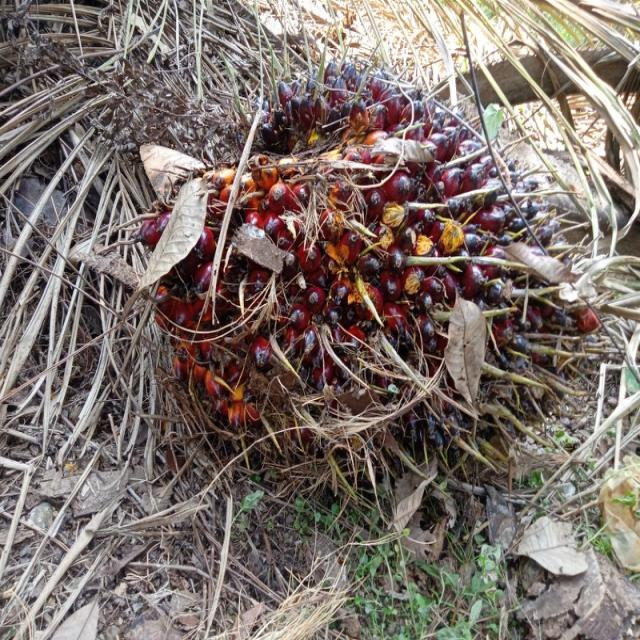fraksi 1: (165, 53, 601, 476)
